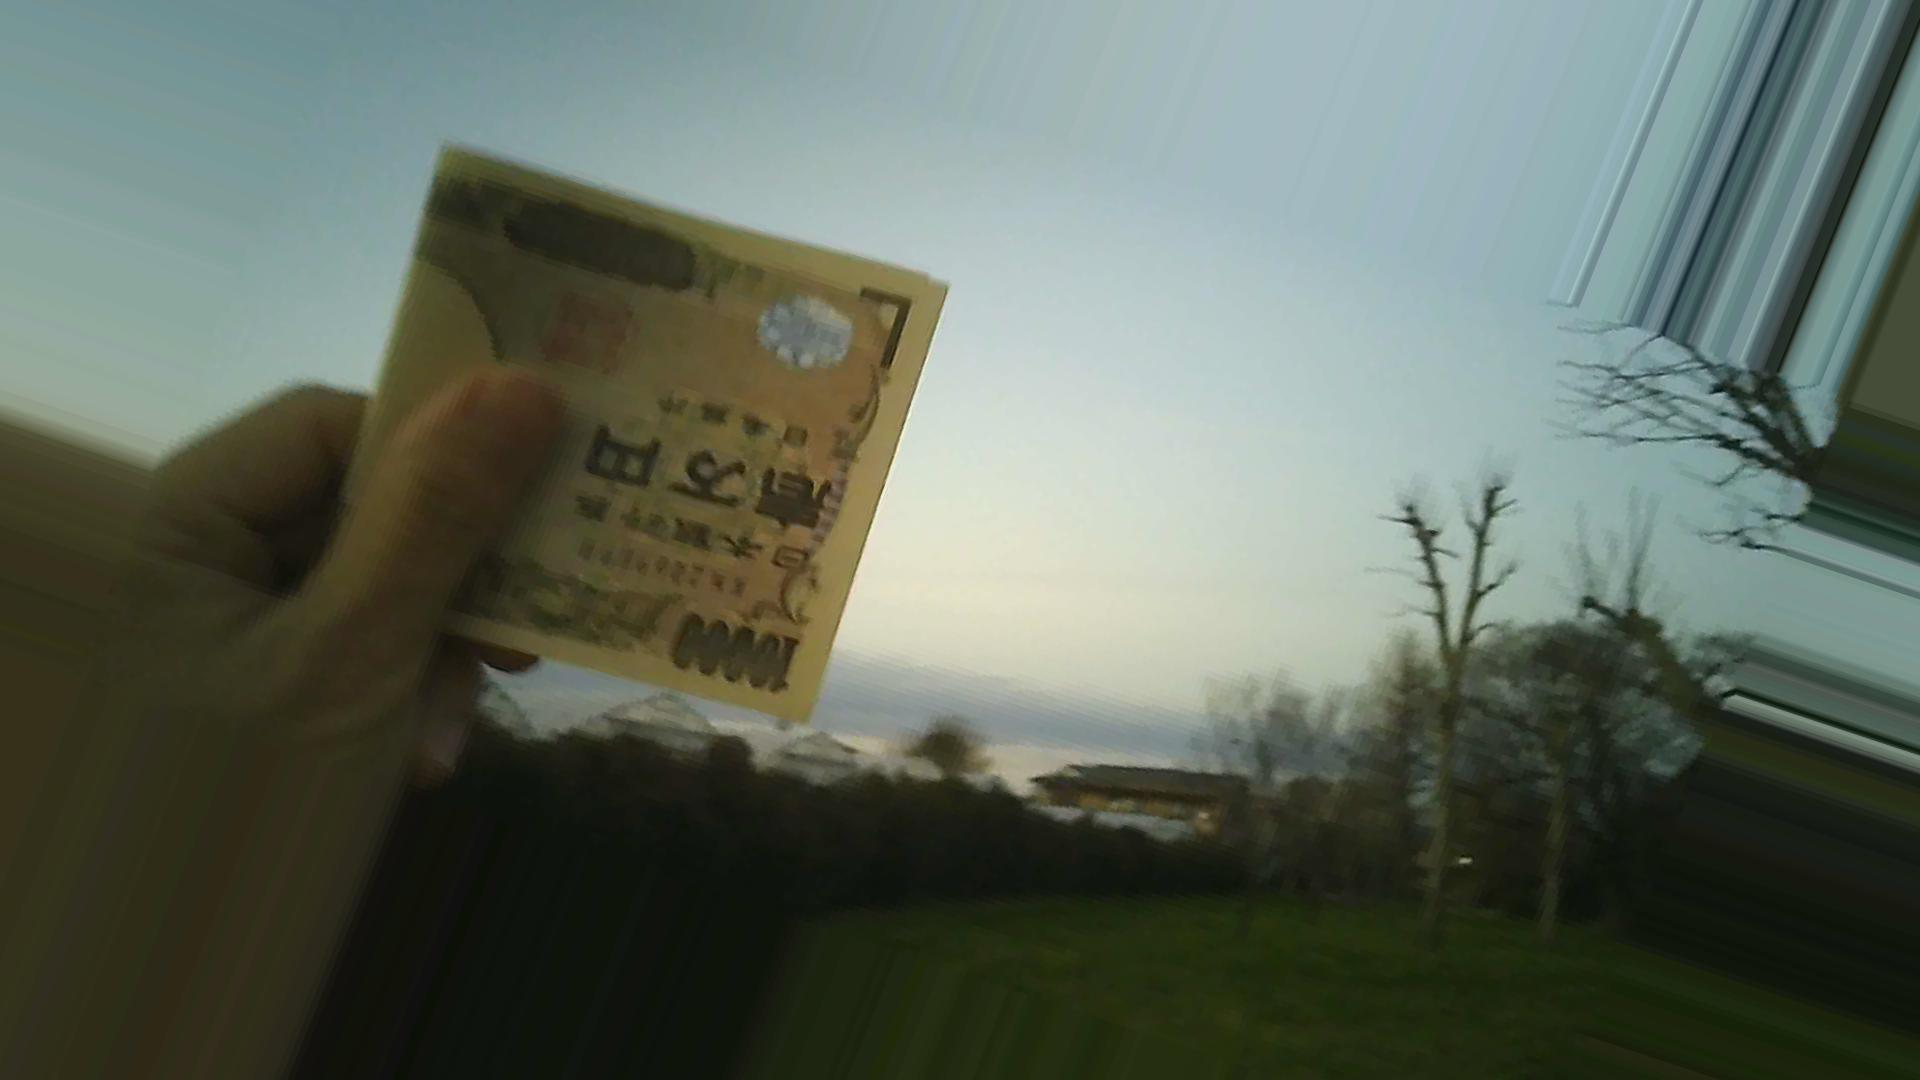10,000 Yen: (324, 117, 951, 725)
